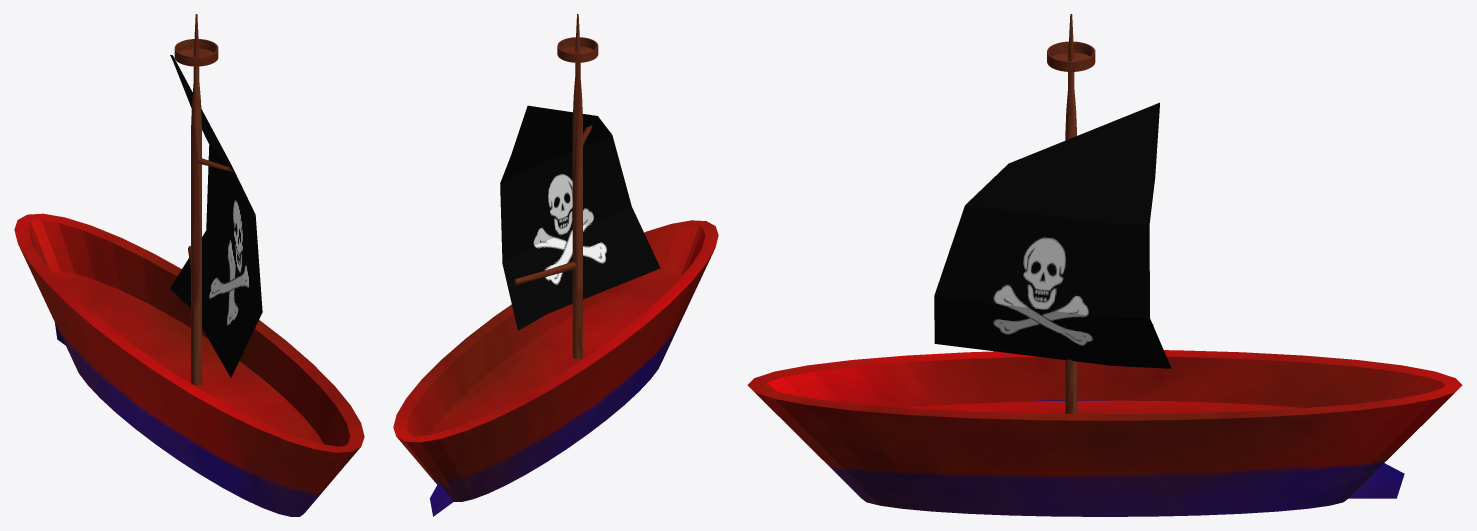
Rendered from empc2.fbx.
The picture shows the model from 3 angles, left to right: view 1: azimuth 30°, elevation 25°; view 2: azimuth 150°, elevation 25°; view 3: azimuth 270°, elevation 25°; orthographic projection. The views are drawn at different scales.
Visible parts, largest first — view 1: Cylinder, Plane, Cylinder.003; view 2: Cylinder, Plane, Cylinder.003; view 3: Cylinder, Plane, Cylinder.003.
Part boxes in pixels (x1,y1,x2,y2): Cylinder: (14, 213, 364, 516); Plane: (170, 55, 262, 377); Cylinder.003: (174, 14, 233, 385); Cylinder: (393, 220, 718, 516); Plane: (500, 105, 660, 330); Cylinder.003: (513, 14, 598, 359); Cylinder: (747, 350, 1462, 516); Plane: (934, 102, 1171, 368); Cylinder.003: (1012, 14, 1153, 413).
Bounding box in the file's own units: 200 × 627 × 848.
3 materials, 3 textured.
